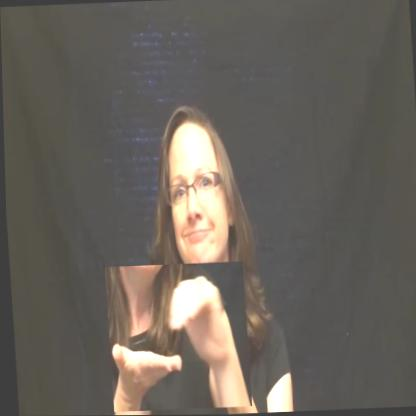ExcuseMe: (103, 262, 250, 412)
